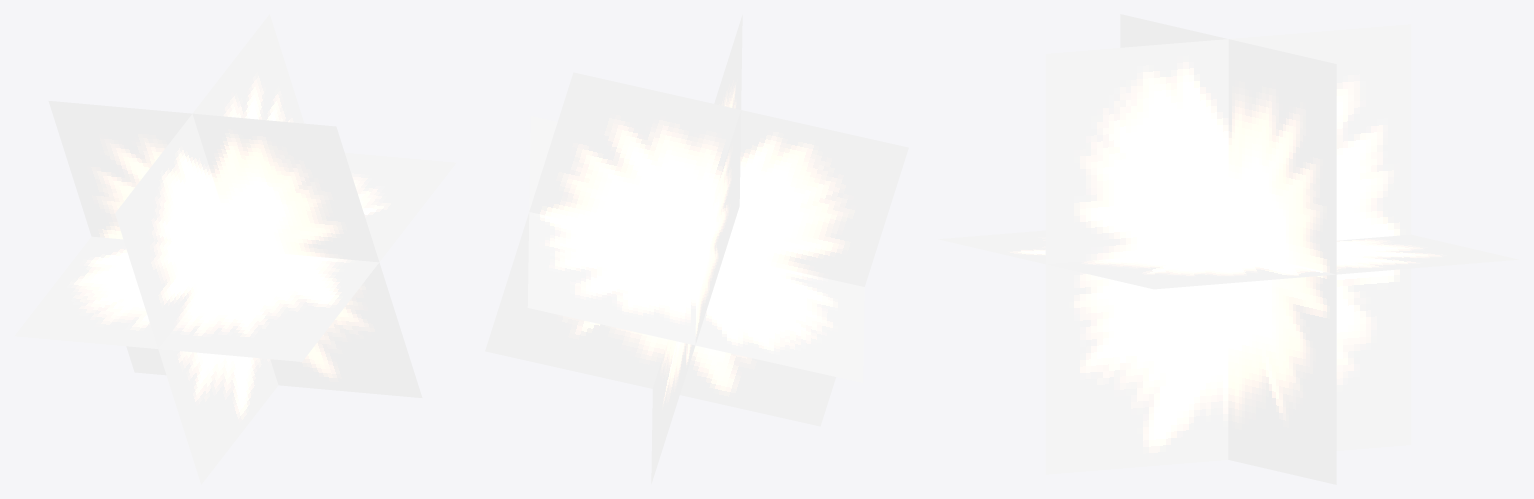
Rendered from sfx_ct0090_attack1.glb.
The picture shows the model from 3 angles, left to right: view 1: azimuth 30°, elevation 25°; view 2: azimuth 150°, elevation 25°; view 3: azimuth 270°, elevation 25°; orthographic projection. The views are drawn at different scales.
Parts seen in each view (by area): view 1: sfx_ct0090_attack1_obj1; view 2: sfx_ct0090_attack1_obj1; view 3: sfx_ct0090_attack1_obj1.
Boxes of the visible parts, left/top/right/bottom form: sfx_ct0090_attack1_obj1: left=14, top=14, right=456, bottom=484; sfx_ct0090_attack1_obj1: left=485, top=15, right=908, bottom=483; sfx_ct0090_attack1_obj1: left=938, top=14, right=1518, bottom=484.
Size of the model in its own units: 0.4074 by 0.3762 by 0.4263.
Materials: 1 (1 with a texture image).
